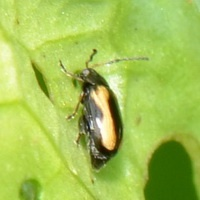insect: (59, 49, 148, 168)
